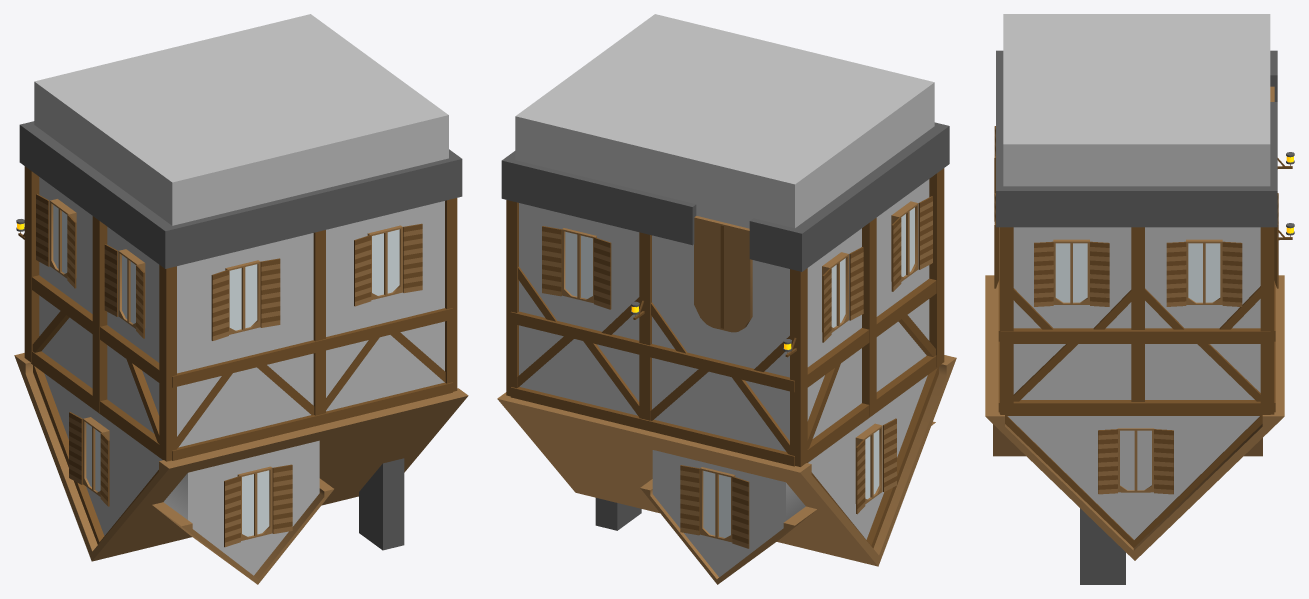
File: House.DAE
The picture shows the model from 3 angles, left to right: view 1: azimuth 30°, elevation 25°; view 2: azimuth 150°, elevation 25°; view 3: azimuth 270°, elevation 25°; orthographic projection. The views are drawn at different scales.
Visible parts, largest first — view 1: Null.1; view 2: Null.1; view 3: Null.1.
Boxes of the visible parts, box(x1,y1,x2,y2) form: Null.1: box(14, 14, 468, 584); Null.1: box(497, 14, 956, 584); Null.1: box(985, 14, 1294, 584).
Size of the model in its own units: 91.47 by 133 by 84.42.
